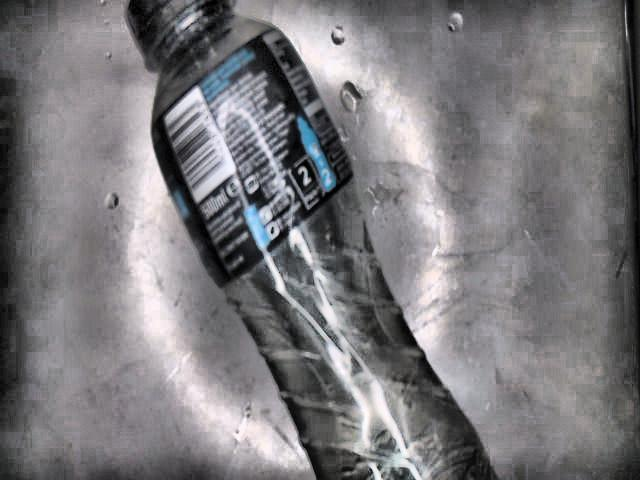Bottles: (123, 0, 507, 480)
